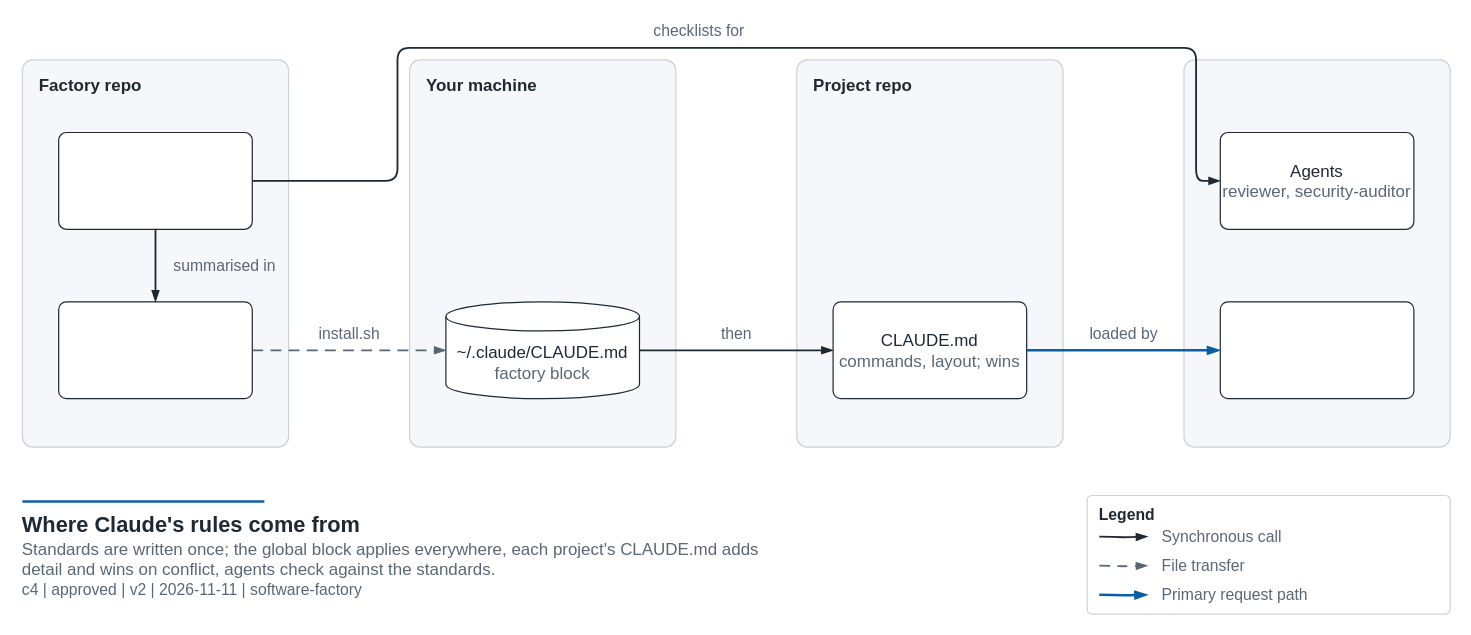
Image size: 1471x635. Some labels were removed from this diagram. Here are the shapes that lost their labels. From the top down, the box of each, then its label:
(57, 131, 252, 229): standards/ coding, git, security, done
(1183, 59, 1450, 447): Claude Code session
(57, 301, 252, 399): claude/CLAUDE.md summary of the standards
(1219, 301, 1414, 399): Main session follows the rules
